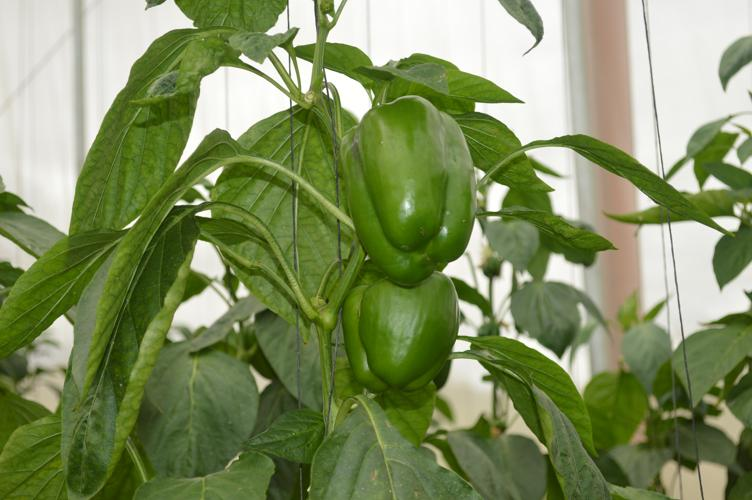BellPepper: (331, 90, 482, 282), (331, 258, 460, 403)
